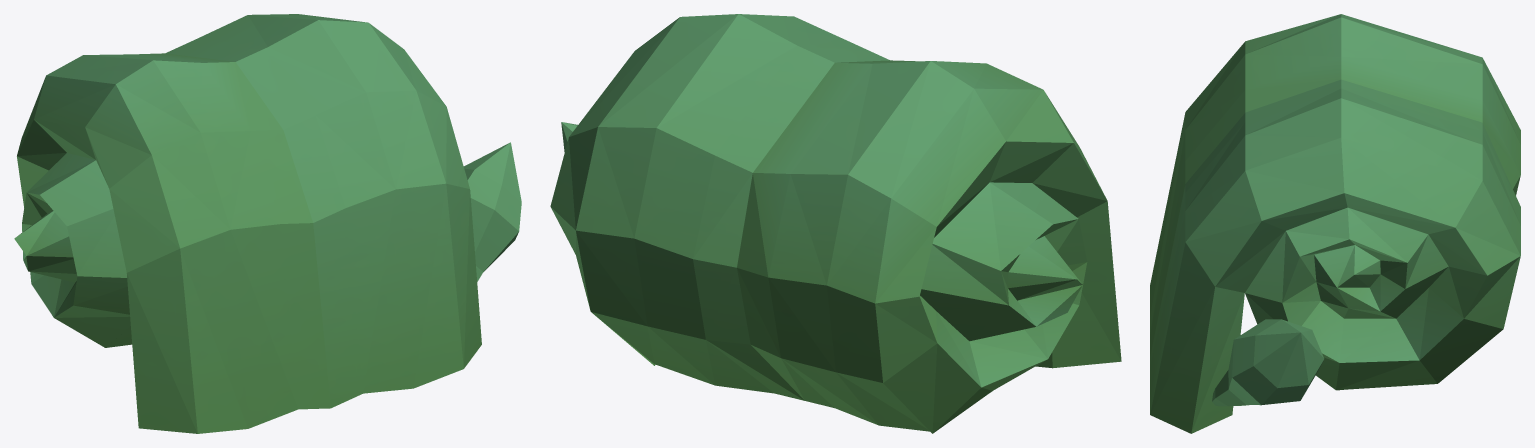
The model's file is leef_01.FBX.
3 renders of one model, left to right at view 1: azimuth 30°, elevation 25°; view 2: azimuth 150°, elevation 25°; view 3: azimuth 270°, elevation 25°, orthographic. The views are drawn at different scales.
Visible parts, largest first — view 1: leef_001; view 2: leef_001; view 3: leef_001.
Boxes of the visible parts, bbox=[...] form: leef_001: bbox=[14, 14, 521, 433]; leef_001: bbox=[550, 14, 1121, 433]; leef_001: bbox=[1150, 14, 1520, 433].
Bounding box in the file's own units: 3.21 × 1.95 × 2.19.
2 materials, 2 textured.
